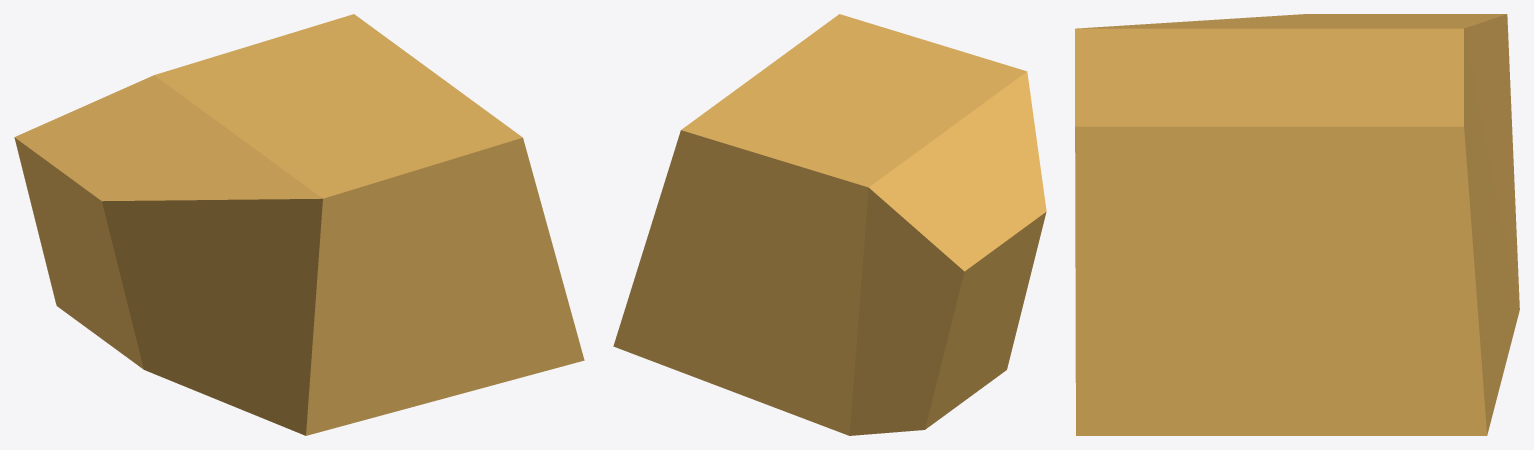
The model's file is gold_nugget_3.fbx.
3 renders of one model, left to right at view 1: azimuth 30°, elevation 25°; view 2: azimuth 150°, elevation 25°; view 3: azimuth 270°, elevation 25°, orthographic. The views are drawn at different scales.
Parts seen in each view (by area): view 1: pCube62; view 2: pCube62; view 3: pCube62.
Boxes of the visible parts, x1,y1,x2,y2 form: pCube62: (14, 14, 584, 435); pCube62: (613, 14, 1046, 435); pCube62: (1075, 14, 1519, 435).
Bounding box in the file's own units: 1.69 × 1.09 × 1.48.
